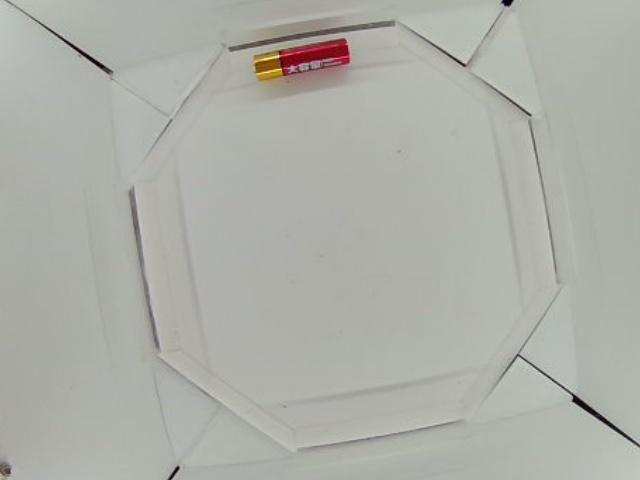Battery: (252, 38, 350, 75)
